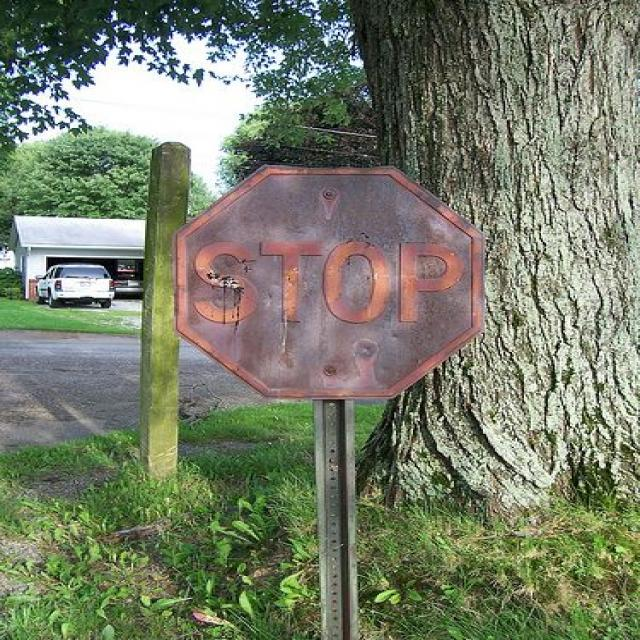stop-sign: (184, 202, 518, 473)
